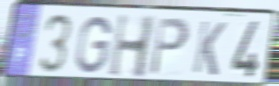3: (37, 12, 73, 76)
4: (228, 19, 261, 81)
G: (74, 15, 114, 76)
H: (107, 12, 158, 80)
K: (191, 19, 228, 78)
P: (148, 17, 191, 78)
